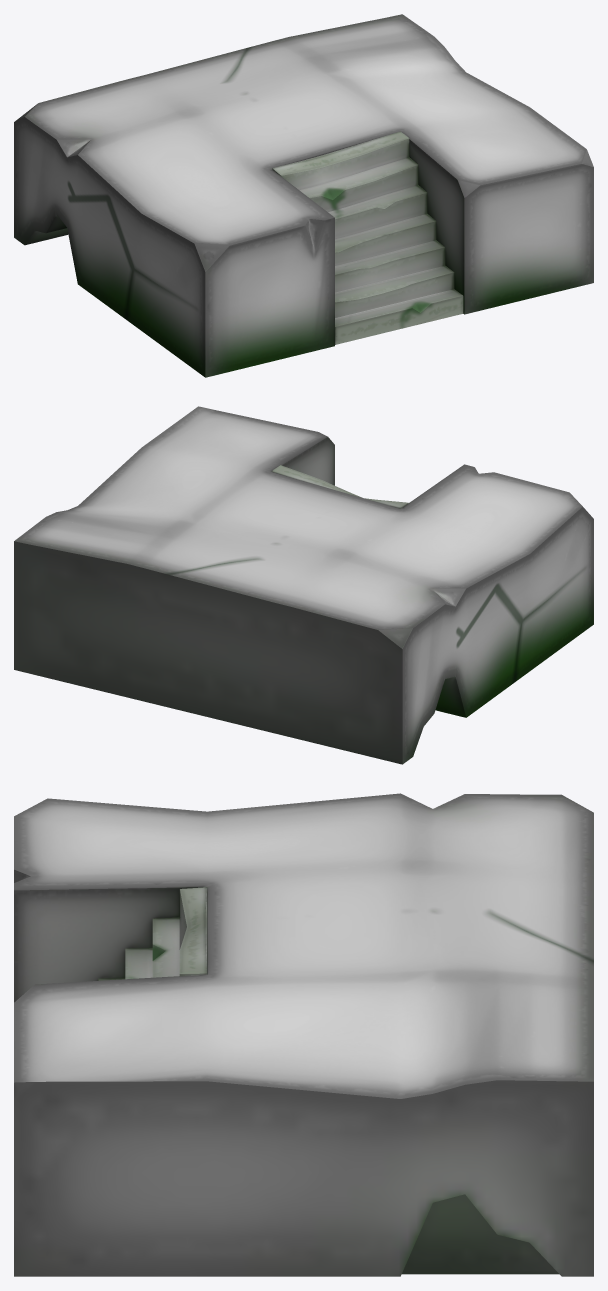
Rendered from Platform.fbx.
The picture shows the model from 3 angles, top to bottom: view 1: azimuth 30°, elevation 25°; view 2: azimuth 150°, elevation 25°; view 3: azimuth 270°, elevation 25°; orthographic projection. The views are drawn at different scales.
Parts seen in each view (by area): view 1: Corner_low; view 2: Corner_low; view 3: Corner_low.
Boxes of the visible parts, left/top/right/bottom form: Corner_low: left=14, top=14, right=593, bottom=377; Corner_low: left=14, top=406, right=593, bottom=764; Corner_low: left=14, top=793, right=593, bottom=1276.
Bounding box in the file's own units: 190 × 65.03 × 162.
Materials: 2 (2 with a texture image).
